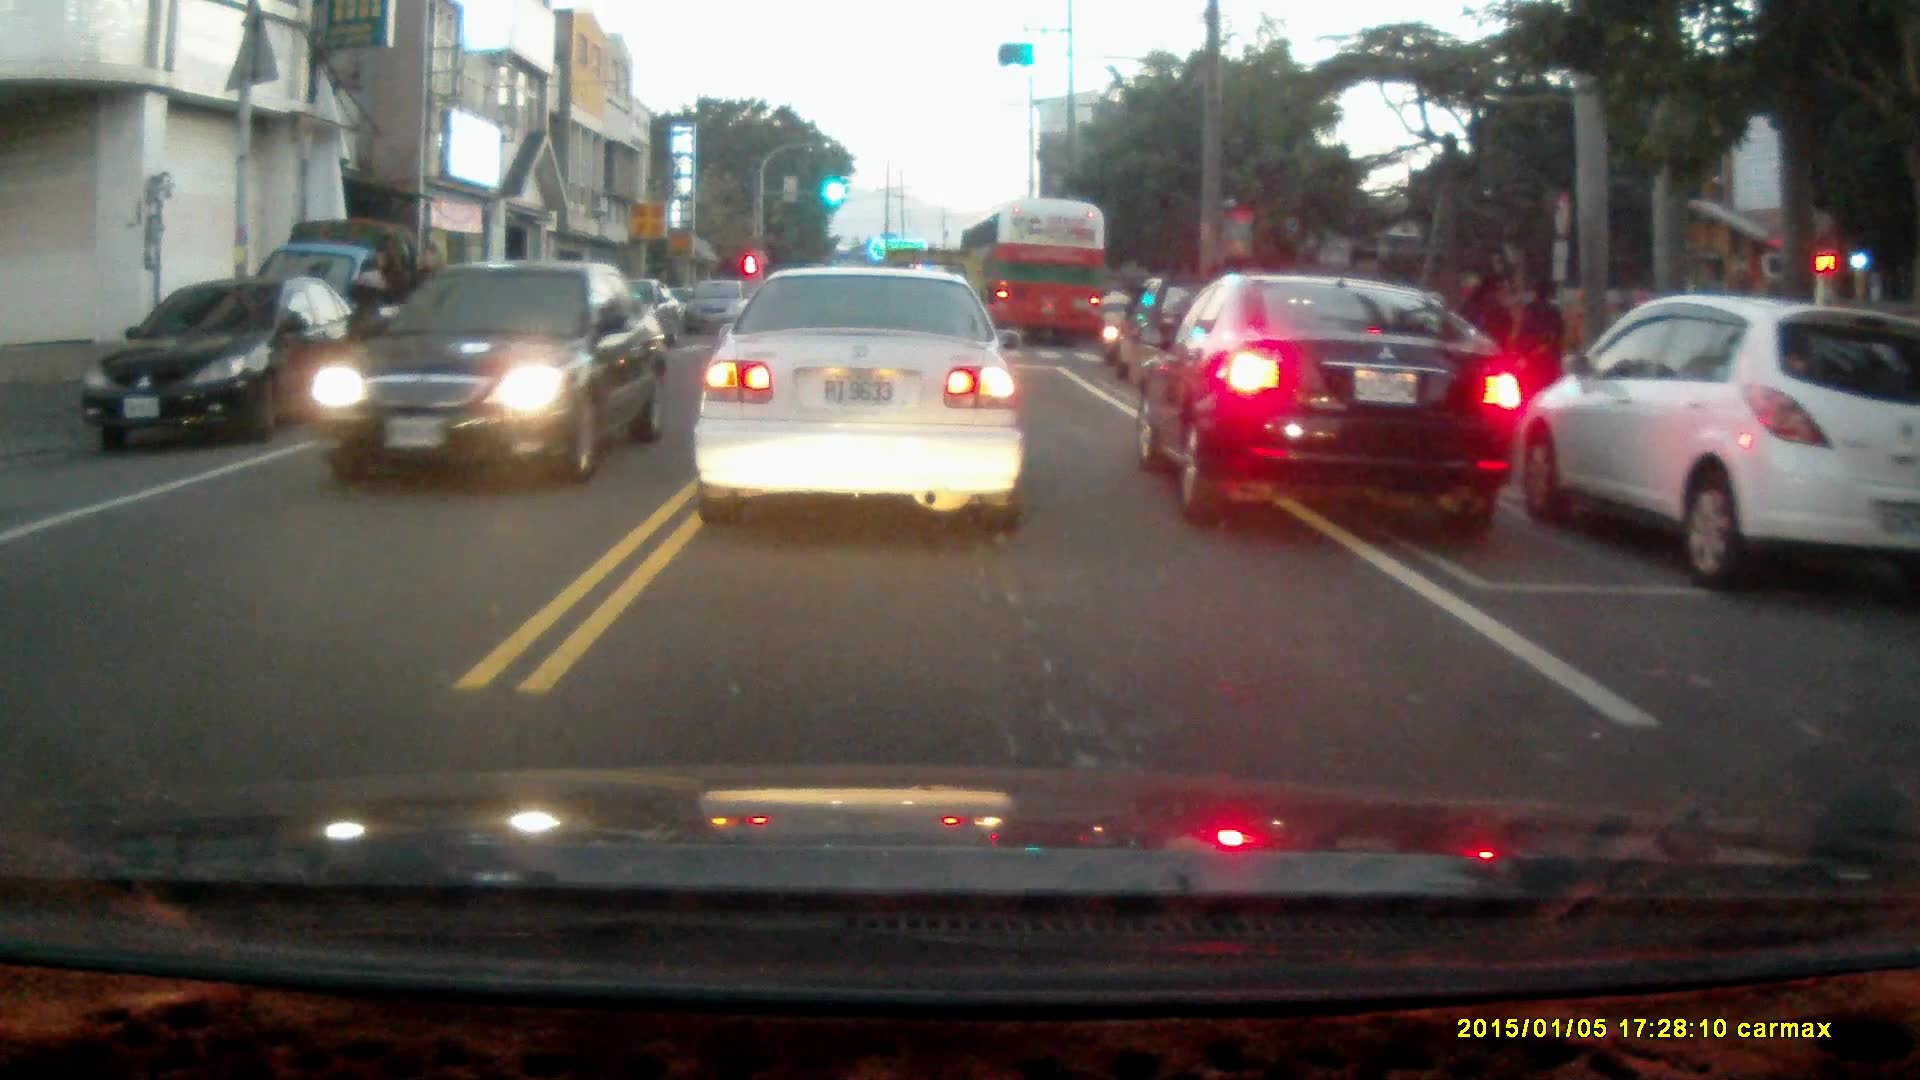pedestrian: (349, 246, 403, 400), (1514, 277, 1568, 410), (1459, 274, 1505, 399)
rider: (1095, 283, 1135, 364)
vehicle: (1504, 291, 1920, 596), (1139, 274, 1527, 532), (690, 263, 1028, 536), (312, 259, 671, 482), (81, 275, 352, 450), (240, 224, 461, 401), (961, 205, 1106, 353)
